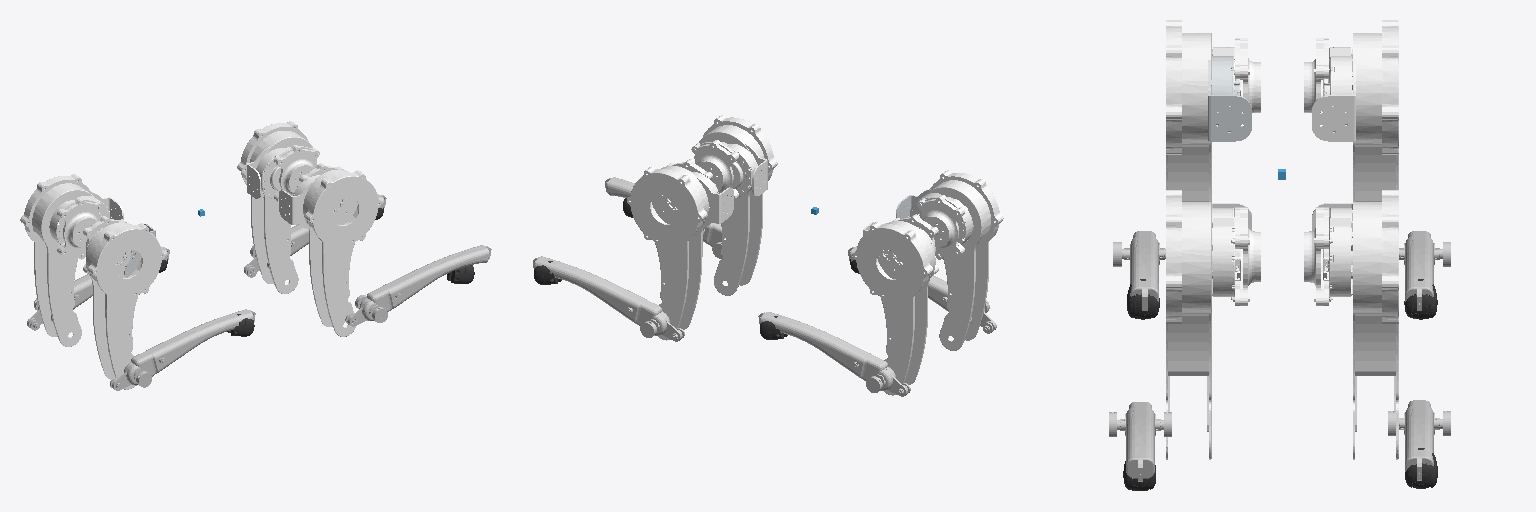
URDF robot description (mybot_v3_with_arm):
<?xml version="1.0" encoding="utf-8"?>
<robot name="mybot_v3_with_arm">
  <link name="body">
    <inertial>
      <origin xyz="0 0 0" rpy="0 0 0"/>
      <mass value="3.87237343"/>
      <inertia ixx="0.02571059" ixy="3E-08" ixz="5.548E-05" iyy="0.06723291" iyz="3.9E-07" izz="0.07677825"/>
    </inertial>
    <visual>
      <origin xyz="0 0 0" rpy="0 0 0"/>
      <geometry>
        <mesh filename="../meshes/body.STL"/>
      </geometry>
      <material name="">
        <color rgba="0.84706 0.84706 0.84706 1"/>
      </material>
    </visual>
    <collision name="body_collision">
      <origin xyz="0 0 0" rpy="0 0 0"/>
      <geometry>
        <box size="0.30 0.25 0.20"/>
      </geometry>
    </collision>
  </link>
  <joint name="imu_joint" type="fixed">
    <parent link="body"/>
    <child link="imu_link"/>
    <origin rpy="0 0 0" xyz="0 0 0"/>
  </joint>
  <link name="imu_link">
    <inertial>
      <mass value="0.001"/>
      <origin rpy="0 0 0" xyz="0 0 0"/>
      <inertia ixx="0.0001" ixy="0" ixz="0" iyy="0.0001" iyz="0" izz="0.0001"/>
    </inertial>
    <visual>
      <origin rpy="0 0 0" xyz="0 0 0"/>
      <geometry>
        <box size="0.01 0.01 0.01"/>
      </geometry>
      <material name="red"/>
    </visual>
    <collision name="imu_link_collision">
      <origin rpy="0 0 0" xyz="0 0 0"/>
      <geometry>
        <box size="0.01 0.01 0.01"/>
      </geometry>
    </collision>
  </link>
  <link name="FL_hip">
    <inertial>
      <origin xyz="0.06912954 0.00308032 -0.00003864" rpy="0 0 0"/>
      <mass value="0.88715151"/>
      <inertia ixx="0.00069961" ixy="-0.00005524" ixz="0.00000161" iyy="0.00185101" iyz="-0.00000029" izz="0.00156540"/>
    </inertial>
    <visual>
      <origin xyz="0 0 0" rpy="0 0 0"/>
      <geometry>
        <mesh filename="../meshes/FL_hip.STL"/>
      </geometry>
      <material name="">
        <color rgba="1 1 1 1"/>
      </material>
    </visual>
    <collision name="FL_hip_collision">
      <origin xyz="0.09 0 0" rpy="1.5707963 0 0"/>
      <geometry>
        <box size="0.05 0.05 0.05"/>
      </geometry>
    </collision>
  </link>
  <joint name="FL_hip_joint" type="revolute">
    <origin xyz="0.15078 0.062035 0.0028793" rpy="0 0 0"/>
    <parent link="body"/>
    <child link="FL_hip"/>
    <axis xyz="1 0 0"/>
    <dynamics damping="0.0" friction="0.1"/>
    <limit effort="33.5" lower="-0.8" upper="0.8" velocity="28"/>
  </joint>
  <link name="FL_thigh">
    <inertial>
      <origin xyz="-0.02888348 0.05108903 -0.02037010" rpy="0 0 0"/>
      <mass value="1.44059854"/>
      <inertia ixx="0.00402900" ixy="0.00102313" ixz="-0.00259373" iyy="0.00718366" iyz="0.00071731" izz="0.00544974"/>
    </inertial>
    <visual>
      <origin xyz="0 0 0" rpy="0 0 0"/>
      <geometry>
        <mesh filename="../meshes/FL_thigh.STL"/>
      </geometry>
      <material name="">
        <color rgba="1 1 1 1"/>
      </material>
    </visual>
    <collision name="FL_thigh_collision">
      <origin xyz="0 0.08 -0.1" rpy="0 0 0"/>
      <geometry>
        <box size="0.04 0.04 0.2"/>
      </geometry>
    </collision>
  </link>
  <joint name="FL_thigh_joint" type="revolute">
    <origin xyz="0.0889996956253644 0.0289500000000045 0" rpy="0 0 0"/>
    <parent link="FL_hip"/>
    <child link="FL_thigh"/>
    <axis xyz="0 1 0"/>
    <dynamics damping="0.0" friction="0.1"/>
    <limit effort="33.5" lower="-1.04" upper="4.18" velocity="28"/>
  </joint>
  <link name="FL_calf">
    <inertial>
      <origin xyz="0.05156601 0.00018731 -0.04379412" rpy="0 0 0"/>
      <mass value="0.23708419"/>
      <inertia ixx="0.00070235" ixy="-0.00000272" ixz="0.00091520" iyy="0.00207462" iyz="0.00000190" izz="0.00144807"/>
    </inertial>
    <visual>
      <origin xyz="0 0 0" rpy="0 0 0"/>
      <geometry>
        <mesh filename="../meshes/FL_calf.STL"/>
      </geometry>
      <material name="">
        <color rgba="0.84706 0.84706 0.84706 1"/>
      </material>
    </visual>
    <collision name="FL_calf_collision">
      <origin xyz="0 0 -0.11" rpy="0 -0.3 0"/>
      <geometry>
        <box size="0.02 0.02 0.2"/>
      </geometry>
    </collision>
  </link>
  <joint name="FL_calf_joint" type="revolute">
    <origin xyz="0 0.075299999999995 -0.220000271728273" rpy="0 0 0"/>
    <parent link="FL_thigh"/>
    <child link="FL_calf"/>
    <axis xyz="0 1 0"/>
    <dynamics damping="0.0" friction="0.3"/>
    <limit effort="78.17" lower="-2.69" upper="-0.91" velocity="12.0"/>
  </joint>
  <link name="FL_foot">
    <inertial>
      <origin xyz="0 0 0" rpy="0 0 0"/>
      <mass value="0.039"/>
      <inertia ixx="6.24E-06" ixy="0" ixz="0" iyy="6.24E-06" iyz="0" izz="6.24E-06"/>
    </inertial>
    <visual>
      <origin xyz="0 0 0" rpy="0 0 0"/>
      <geometry>
        <mesh filename="../meshes/FL_foot.STL"/>
      </geometry>
      <material name="">
        <color rgba="0.29804 0.29804 0.29804 1"/>
      </material>
    </visual>
    <collision name="FL_foot_collision">
      <origin xyz="0 0 0" rpy="0 0 0"/>
      <geometry>
        <sphere radius="0.02"/>
      </geometry>
    </collision>
  </link>
  <joint name="FL_foot_joint" type="fixed">
    <origin xyz="0 0.000400000000007244 -0.226044482407549" rpy="0 0 0"/>
    <parent link="FL_calf"/>
    <child link="FL_foot"/>
    <axis xyz="0 0 0"/>
  </joint>
  <link name="FR_hip">
    <inertial>
      <origin xyz="0.06924676 -0.00308032 -0.00003847" rpy="0 0 0"/>
      <mass value="0.88715151"/>
      <inertia ixx="0.00069961" ixy="0.00005408" ixz="-0.00000026" iyy="0.00185513" iyz="0.00000029" izz="0.00156952"/>
    </inertial>
    <visual>
      <origin xyz="0 0 0" rpy="0 0 0"/>
      <geometry>
        <mesh filename="../meshes/FR_hip.STL"/>
      </geometry>
      <material name="">
        <color rgba="1 1 1 1"/>
      </material>
    </visual>
    <collision name="FR_hip_collision">
      <origin xyz="0.09 0 0" rpy="1.5707963 0 0"/>
      <geometry>
        <box size="0.05 0.05 0.05"/>
      </geometry>
    </collision>
  </link>
  <joint name="FR_hip_joint" type="revolute">
    <origin xyz="0.15078 -0.061965 0.0028793" rpy="0 0 0"/>
    <parent link="body"/>
    <child link="FR_hip"/>
    <axis xyz="1 0 0"/>
    <dynamics damping="0.0" friction="0.1"/>
    <limit effort="33.5" lower="-0.8" upper="0.8" velocity="28"/>
  </joint>
  <link name="FR_thigh">
    <inertial>
      <origin xyz="-0.02893003 -0.05108904 -0.02031487" rpy="0 0 0"/>
      <mass value="1.44059854"/>
      <inertia ixx="0.00403040" ixy="-0.00102127" ixz="-0.00259435" iyy="0.00718302" iyz="-0.00071952" izz="0.00544770"/>
    </inertial>
    <visual>
      <origin xyz="0 0 0" rpy="0 0 0"/>
      <geometry>
        <mesh filename="../meshes/FR_thigh.STL"/>
      </geometry>
      <material name="">
        <color rgba="1 1 1 1"/>
      </material>
    </visual>
    <collision name="FR_thigh_collision">
      <origin xyz="0 -0.08 -0.1" rpy="0 0 0"/>
      <geometry>
        <box size="0.04 0.04 0.2"/>
      </geometry>
    </collision>
  </link>
  <joint name="FR_thigh_joint" type="revolute">
    <origin xyz="0.0889996956253649 -0.0289500000000027 0" rpy="0 0 0"/>
    <parent link="FR_hip"/>
    <child link="FR_thigh"/>
    <axis xyz="0 1 0"/>
    <dynamics damping="0.0" friction="0.1"/>
    <limit effort="33.5" lower="-1.04" upper="4.18" velocity="28"/>
  </joint>
  <link name="FR_calf">
    <inertial>
      <origin xyz="0.05155465 -0.00019685 -0.04378873" rpy="0 0 0"/>
      <mass value="0.23708419"/>
      <inertia ixx="0.00070228" ixy="0.00000301" ixz="0.00091508" iyy="0.00207435" iyz="-0.00000213" izz="0.00144787"/>
    </inertial>
    <visual>
      <origin xyz="0 0 0" rpy="0 0 0"/>
      <geometry>
        <mesh filename="../meshes/FR_calf.STL"/>
      </geometry>
      <material name="">
        <color rgba="0.84706 0.84706 0.84706 1"/>
      </material>
    </visual>
    <collision name="FR_calf_collision">
      <origin xyz="0 0 -0.11" rpy="0 -0.3 0"/>
      <geometry>
        <box size="0.02 0.02 0.2"/>
      </geometry>
    </collision>
  </link>
  <joint name="FR_calf_joint" type="revolute">
    <origin xyz="0 -0.0752999999999995 -0.220000271728275" rpy="0 0 0"/>
    <parent link="FR_thigh"/>
    <child link="FR_calf"/>
    <axis xyz="0 1 0"/>
    <dynamics damping="0.0" friction="0.3"/>
    <limit effort="78.17" lower="-2.69" upper="-0.91" velocity="12.0"/>
  </joint>
  <link name="FR_foot">
    <inertial>
      <origin xyz="0 0 0" rpy="0 0 0"/>
      <mass value="0.039"/>
      <inertia ixx="6.24E-06" ixy="0" ixz="0" iyy="6.24E-06" iyz="0" izz="6.24E-06"/>
    </inertial>
    <visual>
      <origin xyz="0 0 0" rpy="0 0 0"/>
      <geometry>
        <mesh filename="../meshes/FR_foot.STL"/>
      </geometry>
      <material name="">
        <color rgba="0.29804 0.29804 0.29804 1"/>
      </material>
    </visual>
    <collision name="FR_foot_collision">
      <origin xyz="0 0 0" rpy="0 0 0"/>
      <geometry>
        <sphere radius="0.02"/>
      </geometry>
    </collision>
  </link>
  <joint name="FR_foot_joint" type="fixed">
    <origin xyz="0 -0.000399999999994072 -0.226044482407548" rpy="0 0 0"/>
    <parent link="FR_calf"/>
    <child link="FR_foot"/>
    <axis xyz="0 0 0"/>
  </joint>
  <link name="RL_hip">
    <inertial>
      <origin xyz="-0.06912961 0.00308032 0.00003847" rpy="0 0 0"/>
      <mass value="0.88715151"/>
      <inertia ixx="0.00069961" ixy="0.00005524" ixz="0.00000161" iyy="0.00185101" iyz="0.00000029" izz="0.00156540"/>
    </inertial>
    <visual>
      <origin xyz="0 0 0" rpy="0 0 0"/>
      <geometry>
        <mesh filename="../meshes/RL_hip.STL"/>
      </geometry>
      <material name="">
        <color rgba="1 1 1 1"/>
      </material>
    </visual>
    <collision name="RL_hip_collision">
      <origin xyz="-0.09 0 0" rpy="1.5707963 0 0"/>
      <geometry>
        <box size="0.05 0.05 0.05"/>
      </geometry>
    </collision>
  </link>
  <joint name="RL_hip_joint" type="revolute">
    <origin xyz="-0.15042 0.062035 0.0028793" rpy="0 0 0"/>
    <parent link="body"/>
    <child link="RL_hip"/>
    <axis xyz="1 0 0"/>
    <dynamics damping="0.0" friction="0.1"/>
    <limit effort="33.5" lower="-0.8" upper="0.8" velocity="28"/>
  </joint>
  <link name="RL_thigh">
    <inertial>
      <origin xyz="-0.02981118 0.05142476 -0.01901311" rpy="0 0 0"/>
      <mass value="1.45185979"/>
      <inertia ixx="0.00384286" ixy="0.00104947" ixz="-0.00254354" iyy="0.00725341" iyz="0.00066590" izz="0.00575250"/>
    </inertial>
    <visual>
      <origin xyz="0 0 0" rpy="0 0 0"/>
      <geometry>
        <mesh filename="../meshes/RL_thigh.STL"/>
      </geometry>
      <material name="">
        <color rgba="1 1 1 1"/>
      </material>
    </visual>
    <collision name="RL_thigh_collision">
      <origin xyz="0 0.08 -0.1" rpy="0 0 0"/>
      <geometry>
        <box size="0.04 0.04 0.2"/>
      </geometry>
    </collision>
  </link>
  <joint name="RL_thigh_joint" type="revolute">
    <origin xyz="-0.0889996956253643 0.0289499874999981 0" rpy="0 0 0"/>
    <parent link="RL_hip"/>
    <child link="RL_thigh"/>
    <axis xyz="0 1 0"/>
    <dynamics damping="0.0" friction="0.1"/>
    <limit effort="33.5" lower="-1.04" upper="4.18" velocity="28"/>
  </joint>
  <link name="RL_calf">
    <inertial>
      <origin xyz="0.05423569 0.00000883 -0.03966053" rpy="0 0 0"/>
      <mass value="0.23880158"/>
      <inertia ixx="0.00057526" ixy="0.00000037" ixz="0.00085435" iyy="0.00208160" iyz="-0.00000027" izz="0.00158150"/>
    </inertial>
    <visual>
      <origin xyz="0 0 0" rpy="0 0 0"/>
      <geometry>
        <mesh filename="../meshes/RL_calf.STL"/>
      </geometry>
      <material name="">
        <color rgba="0.84706 0.84706 0.84706 1"/>
      </material>
    </visual>
    <collision name="RL_calf_collision">
      <origin xyz="0 0 -0.11" rpy="0 -0.3 0"/>
      <geometry>
        <box size="0.02 0.02 0.2"/>
      </geometry>
    </collision>
  </link>
  <joint name="RL_calf_joint" type="revolute">
    <origin xyz="0 0.0752999999999953 -0.220000271728273" rpy="0 0 0"/>
    <parent link="RL_thigh"/>
    <child link="RL_calf"/>
    <axis xyz="0 1 0"/>
    <dynamics damping="0.0" friction="0.3"/>
    <limit effort="78.17" lower="-2.69" upper="-0.91" velocity="12.0"/>
  </joint>
  <link name="RL_foot">
    <inertial>
      <origin xyz="0 0 0" rpy="0 0 0"/>
      <mass value="0.039"/>
      <inertia ixx="6.24E-06" ixy="0" ixz="0" iyy="6.24E-06" iyz="0" izz="6.24E-06"/>
    </inertial>
    <visual>
      <origin xyz="0 0 0" rpy="0 0 0"/>
      <geometry>
        <mesh filename="../meshes/RL_foot.STL"/>
      </geometry>
      <material name="">
        <color rgba="0.29804 0.29804 0.29804 1"/>
      </material>
    </visual>
    <collision name="RL_foot_collision">
      <origin xyz="0 0 0" rpy="0 0 0"/>
      <geometry>
        <sphere radius="0.02"/>
      </geometry>
    </collision>
  </link>
  <joint name="RL_foot_joint" type="fixed">
    <origin xyz="0 0 -0.226044482410381" rpy="0 0 0"/>
    <parent link="RL_calf"/>
    <child link="RL_foot"/>
    <axis xyz="0 0 0"/>
  </joint>
  <link name="RR_hip">
    <inertial>
      <origin xyz="-0.06924676 -0.00308032 0.00003847" rpy="0 0 0"/>
      <mass value="0.88715151"/>
      <inertia ixx="0.00069961" ixy="-0.00005408" ixz="-0.00000026" iyy="0.00185513" iyz="-0.00000029" izz="0.00156952"/>
    </inertial>
    <visual>
      <origin xyz="0 0 0" rpy="0 0 0"/>
      <geometry>
        <mesh filename="../meshes/RR_hip.STL"/>
      </geometry>
      <material name="">
        <color rgba="0.89804 0.91765 0.92941 1"/>
      </material>
    </visual>
    <collision name="RR_hip_collision">
      <origin xyz="-0.09 0 0" rpy="1.5707963 0 0"/>
      <geometry>
        <box size="0.05 0.05 0.05"/>
      </geometry>
    </collision>
  </link>
  <joint name="RR_hip_joint" type="revolute">
    <origin xyz="-0.150422440000001 -0.0619648146458117 0.00287929128020871" rpy="0 0 0"/>
    <parent link="body"/>
    <child link="RR_hip"/>
    <axis xyz="1 0 0"/>
    <dynamics damping="0.0" friction="0.1"/>
    <limit effort="33.5" lower="-0.8" upper="0.8" velocity="28"/>
  </joint>
  <link name="RR_thigh">
    <inertial>
      <origin xyz="-0.02978034 -0.05141831 -0.01902502" rpy="0 0 0"/>
      <mass value="1.45068546"/>
      <inertia ixx="0.00384080" ixy="-0.00104560" ixz="-0.00254723" iyy="0.00724711" iyz="-0.00067018" izz="0.00574630"/>
    </inertial>
    <visual>
      <origin xyz="0 0 0" rpy="0 0 0"/>
      <geometry>
        <mesh filename="../meshes/RR_thigh.STL"/>
      </geometry>
      <material name="">
        <color rgba="1 1 1 1"/>
      </material>
    </visual>
    <collision name="RR_thigh_collision">
      <origin xyz="0 -0.08 -0.1" rpy="0 0 0"/>
      <geometry>
        <box size="0.04 0.04 0.2"/>
      </geometry>
    </collision>
  </link>
  <joint name="RR_thigh_joint" type="revolute">
    <origin xyz="-0.0889996956253639 -0.0289499875000004 0" rpy="0 0 0"/>
    <parent link="RR_hip"/>
    <child link="RR_thigh"/>
    <axis xyz="0 1 0"/>
    <dynamics damping="0.0" friction="0.1"/>
    <limit effort="33.5" lower="-1.04" upper="4.18" velocity="28"/>
  </joint>
  <link name="RR_calf">
    <inertial>
      <origin xyz="0.05424733 -0.00001831 -0.03966504" rpy="0 0 0"/>
      <mass value="0.23880158"/>
      <inertia ixx="0.00057532" ixy="-0.00000006" ixz="0.00085447" iyy="0.00208188" iyz="0.00000006" izz="0.00158173"/>
    </inertial>
    <visual>
      <origin xyz="0 0 0" rpy="0 0 0"/>
      <geometry>
        <mesh filename="../meshes/RR_calf.STL"/>
      </geometry>
      <material name="">
        <color rgba="0.84706 0.84706 0.84706 1"/>
      </material>
    </visual>
    <collision name="RR_calf_collision">
      <origin xyz="0 0 -0.11" rpy="0 -0.3 0"/>
      <geometry>
        <box size="0.02 0.02 0.2"/>
      </geometry>
    </collision>
  </link>
  <joint name="RR_calf_joint" type="revolute">
    <origin xyz="0 -0.0752999999999974 -0.220000271728273" rpy="0 0 0"/>
    <parent link="RR_thigh"/>
    <child link="RR_calf"/>
    <axis xyz="0 1 0"/>
    <dynamics damping="0.0" friction="0.3"/>
    <limit effort="78.17" lower="-2.69" upper="-0.91" velocity="12.0"/>
  </joint>
  <link name="RR_foot">
    <inertial>
      <origin xyz="0 0 0" rpy="0 0 0"/>
      <mass value="0.039"/>
      <inertia ixx="6.24E-06" ixy="0" ixz="0" iyy="6.24E-06" iyz="0" izz="6.24E-06"/>
    </inertial>
    <visual>
      <origin xyz="0 0 0" rpy="0 0 0"/>
      <geometry>
        <mesh filename="../meshes/RR_foot.STL"/>
      </geometry>
      <material name="">
        <color rgba="0.29804 0.29804 0.29804 1"/>
      </material>
    </visual>
    <collision name="RR_foot_collision">
      <origin xyz="0 0 0" rpy="0 0 0"/>
      <geometry>
        <sphere radius="0.02"/>
      </geometry>
    </collision>
  </link>
  <joint name="RR_foot_joint" type="fixed">
    <origin xyz="0 0 -0.226044482410382" rpy="0 0 0"/>
    <parent link="RR_calf"/>
    <child link="RR_foot"/>
    <axis xyz="0 0 0"/>
  </joint>
  <link name="arm_base_fix">
    <inertial>
      <origin xyz="-0.06777427 0.00172378 0.11395569" rpy="0 0 0"/>
      <mass value="3.49951728"/>
      <inertia ixx="0.04270647" ixy="0.00109583" ixz="0.02637703" iyy="0.07424103" iyz="-0.00195862" izz="0.04229201"/>
    </inertial>
    <visual>
      <origin xyz="0 0 0" rpy="0 0 0"/>
      <geometry>
        <mesh filename="../meshes/arm_base_fix.STL"/>
      </geometry>
      <material name="">
        <color rgba="0.84706 0.84706 0.84706 1"/>
      </material>
    </visual>
  </link>
  <joint name="arm_base_fix_joint" type="fixed">
    <origin xyz="0.060178 0.00017443 0.085879" rpy="0 0 0"/>
    <parent link="body"/>
    <child link="arm_base_fix"/>
  </joint>
  <gazebo reference="imu_link">
    <sensor name="imu_sensor" type="imu">
      <always_on>true</always_on>
      <update_rate>200</update_rate>
      <visualize>false</visualize>
      <imu>
        <angular_velocity>
          <x>
            <noise type="gaussian">
              <mean>0.0</mean>
              <stddev>0.0002</stddev>
            </noise>
          </x>
          <y>
            <noise type="gaussian">
              <mean>0.0</mean>
              <stddev>0.0002</stddev>
            </noise>
          </y>
          <z>
            <noise type="gaussian">
              <mean>0.0</mean>
              <stddev>0.0002</stddev>
            </noise>
          </z>
        </angular_velocity>
        <linear_acceleration>
          <x>
            <noise type="gaussian">
              <mean>0.0</mean>
              <stddev>0.001</stddev>
            </noise>
          </x>
          <y>
            <noise type="gaussian">
              <mean>0.0</mean>
              <stddev>0.001</stddev>
            </noise>
          </y>
          <z>
            <noise type="gaussian">
              <mean>0.0</mean>
              <stddev>0.001</stddev>
            </noise>
          </z>
        </linear_acceleration>
      </imu>
      <plugin name="imu_plugin" filename="libgazebo_ros_imu_sensor.so">
        <ros>
          <namespace>/</namespace>
          <remapping>~/out:=imu/data</remapping>
        </ros>
        <frame_name>imu_link</frame_name>
        <initial_orientation_as_reference>false</initial_orientation_as_reference>
      </plugin>
    </sensor>
  </gazebo>
  <gazebo reference="FL_foot">
    <sensor name="FL_foot_contact_sensor" type="contact">
      <always_on>true</always_on>
      <update_rate>200</update_rate>
      <visualize>false</visualize>
      <contact>
        <collision>FL_foot_collision</collision>
      </contact>
      <plugin name="FL_foot_contact_plugin" filename="libgazebo_ros_bumper.so">
        <frame_name>FL_foot</frame_name>
        <ros>
          <namespace>/</namespace>
          <remapping>bumpers:=/FL_foot/contact</remapping>
        </ros>
      </plugin>
    </sensor>
  </gazebo>
  <gazebo reference="FR_foot">
    <sensor name="FR_foot_contact_sensor" type="contact">
      <always_on>true</always_on>
      <update_rate>200</update_rate>
      <visualize>false</visualize>
      <contact>
        <collision>FR_foot_collision</collision>
      </contact>
      <plugin name="FR_foot_contact_plugin" filename="libgazebo_ros_bumper.so">
        <frame_name>FR_foot</frame_name>
        <ros>
          <namespace>/</namespace>
          <remapping>bumpers:=/FR_foot/contact</remapping>
        </ros>
      </plugin>
    </sensor>
  </gazebo>
  <gazebo reference="RL_foot">
    <sensor name="RL_foot_contact_sensor" type="contact">
      <always_on>true</always_on>
      <update_rate>200</update_rate>
      <visualize>false</visualize>
      <contact>
        <collision>RL_foot_collision</collision>
      </contact>
      <plugin name="RL_foot_contact_plugin" filename="libgazebo_ros_bumper.so">
        <frame_name>RL_foot</frame_name>
        <ros>
          <namespace>/</namespace>
          <remapping>bumpers:=/RL_foot/contact</remapping>
        </ros>
      </plugin>
    </sensor>
  </gazebo>
  <gazebo reference="RR_foot">
    <sensor name="RR_foot_contact_sensor" type="contact">
      <always_on>true</always_on>
      <update_rate>200</update_rate>
      <visualize>false</visualize>
      <contact>
        <collision>RR_foot_collision</collision>
      </contact>
      <plugin name="RR_foot_contact_plugin" filename="libgazebo_ros_bumper.so">
        <frame_name>RR_foot</frame_name>
        <ros>
          <namespace>/</namespace>
          <remapping>bumpers:=/RR_foot/contact</remapping>
        </ros>
      </plugin>
    </sensor>
  </gazebo>
</robot>

--- What the picture shows (computed from the rendered views, not written in the file) ---
3 views of the same robot in one strip: view 1: azimuth 30°, elevation 25°; view 2: azimuth 150°, elevation 25°; view 3: azimuth 270°, elevation 25° (orthographic).
Model mybot_v3_with_arm with 19 links and 18 joints (12 revolute, 6 fixed), rooted at body, posed joints at zero except 4 at the middle of their limits (FL_calf_joint = -1.8, FR_calf_joint = -1.8, RL_calf_joint = -1.8, RR_calf_joint = -1.8).
Links seen in each view (by area): view 1: FR_thigh, RL_thigh, RR_thigh, FL_thigh, FR_calf, RR_calf, FL_hip, FR_hip, RL_calf, FL_calf; view 2: RR_thigh, FL_thigh, RL_thigh, FR_thigh, RL_calf, FL_calf, FR_hip, FL_hip, FR_calf, RR_calf, RR_hip; view 3: FL_thigh, FR_thigh, RL_thigh, RR_thigh, RR_hip, RL_hip, FR_calf, FL_calf, RR_calf, RL_calf, FL_foot, RL_foot (+1 smaller).
Boxes of the visible links, box(x1,y1,x2,y2) form: FR_thigh: box(299, 163, 381, 336); RL_thigh: box(20, 174, 102, 346); RR_thigh: box(83, 216, 164, 389); FL_thigh: box(237, 121, 319, 293); FR_calf: box(345, 245, 491, 326); RR_calf: box(110, 309, 255, 390); FL_hip: box(247, 147, 285, 198); FR_hip: box(279, 175, 319, 230); RL_calf: box(27, 247, 169, 330); FL_calf: box(244, 194, 386, 277); RR_thigh: box(917, 170, 1003, 350); FL_thigh: box(627, 159, 712, 340); RL_thigh: box(852, 214, 938, 395); FR_thigh: box(691, 115, 777, 295); RL_calf: box(758, 312, 910, 396); FL_calf: box(533, 256, 684, 341); FR_hip: box(727, 143, 767, 196); FL_hip: box(692, 172, 733, 229); FR_calf: box(605, 177, 722, 258); RR_calf: box(848, 246, 996, 333); RR_hip: box(896, 189, 940, 218); FL_thigh: box(1304, 190, 1398, 459); FR_thigh: box(1166, 190, 1260, 459); RL_thigh: box(1304, 20, 1398, 201); RR_thigh: box(1166, 20, 1260, 202); RR_hip: box(1208, 56, 1251, 141); RL_hip: box(1312, 56, 1355, 141); FR_calf: box(1109, 402, 1171, 481); FL_calf: box(1388, 400, 1450, 480); RR_calf: box(1113, 231, 1165, 310); RL_calf: box(1399, 231, 1450, 310); FL_foot: box(1405, 448, 1437, 488); RL_foot: box(1404, 279, 1437, 319).
Size in the robot's own frame: 0.8623 by 0.4085 by 0.338 metres.
16 mesh visuals loaded from 18 distinct referenced files (16 binary STL); not drawn: 2 (reference not matched to a file when rendering).
